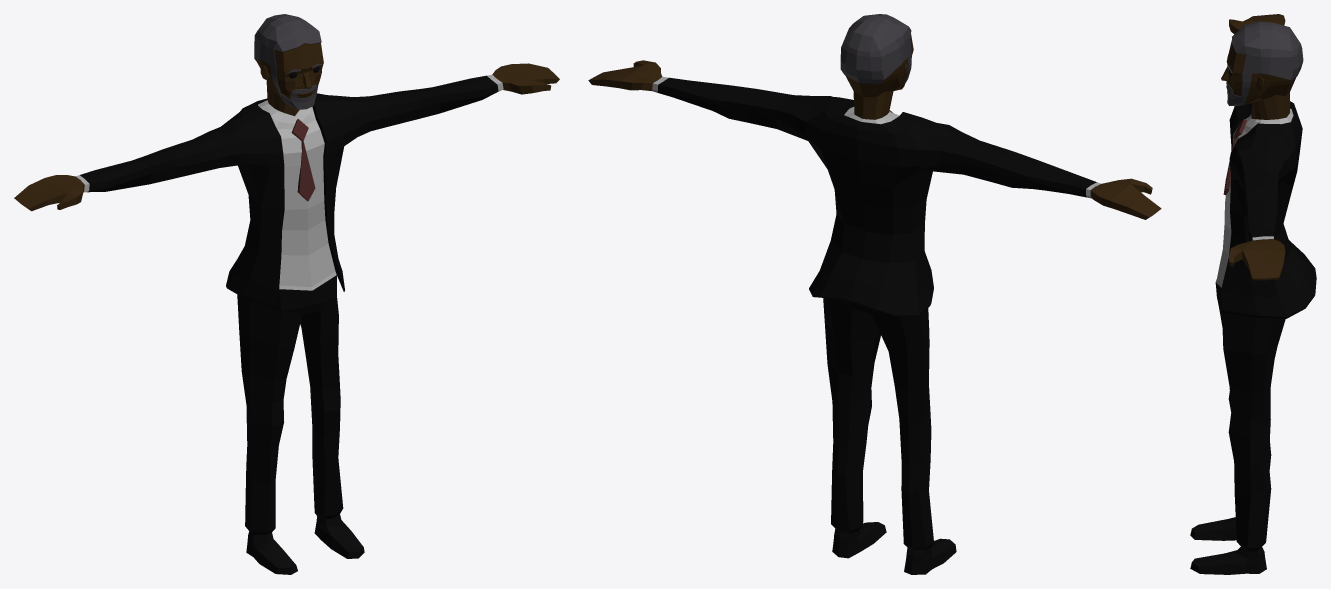
Rendered from manager.fbx.
The picture shows the model from 3 angles, left to right: view 1: azimuth 30°, elevation 25°; view 2: azimuth 150°, elevation 25°; view 3: azimuth 270°, elevation 25°; orthographic projection. The views are drawn at different scales.
Visible parts, largest first — view 1: BaseHuman; view 2: BaseHuman; view 3: BaseHuman.
Boxes of the visible parts, x1=… form: BaseHuman: x1=14, y1=14, x2=559, y2=574; BaseHuman: x1=588, y1=14, x2=1161, y2=574; BaseHuman: x1=1190, y1=14, x2=1316, y2=574.
Size of the model in its own units: 520 by 484 by 105.
